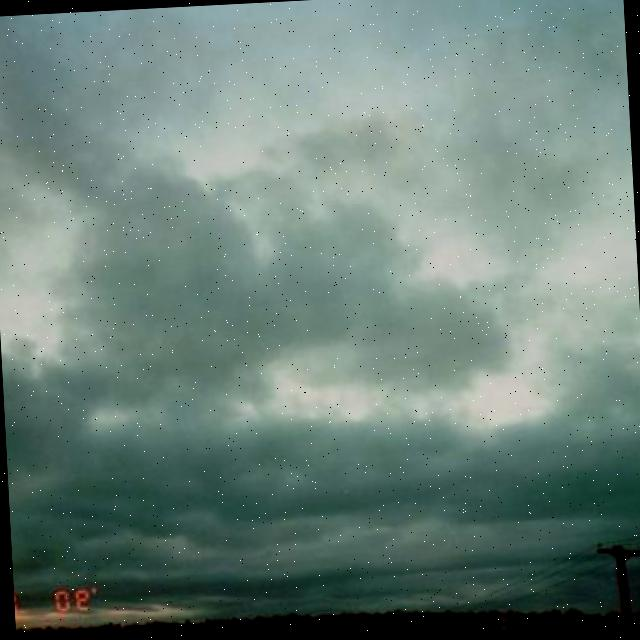St: (1, 60, 640, 476)
